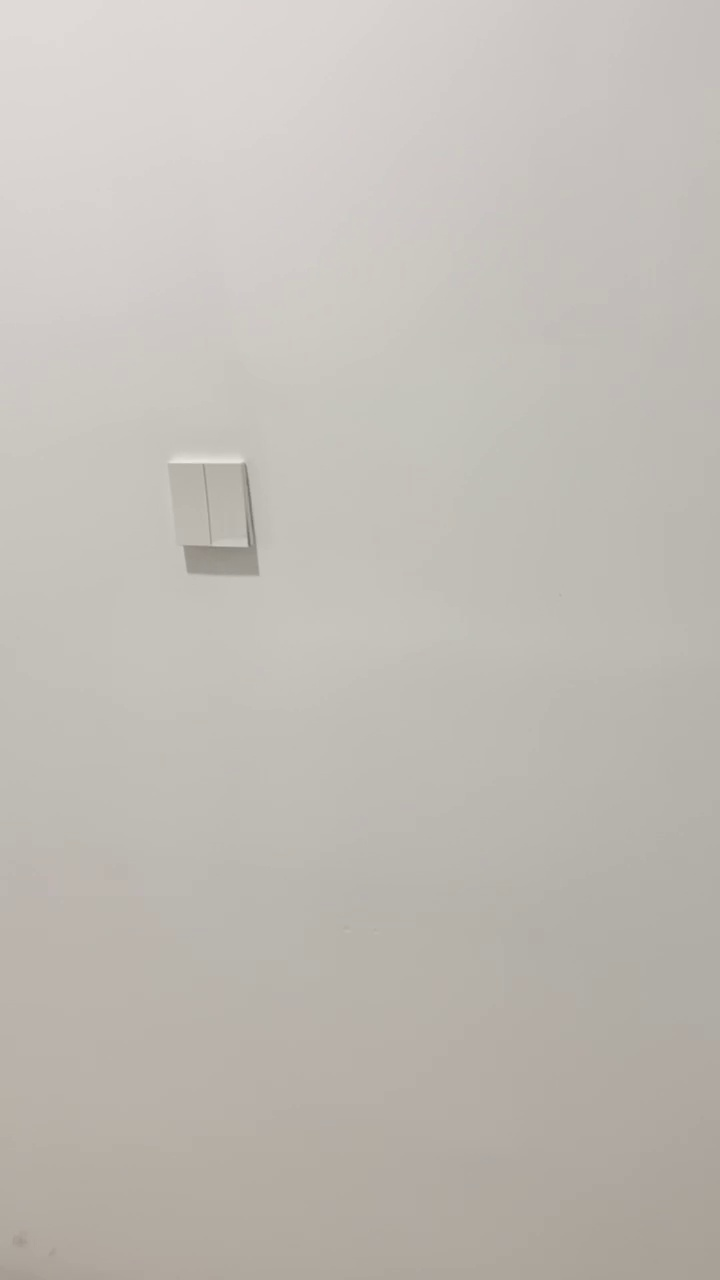button: (167, 455, 262, 557)
